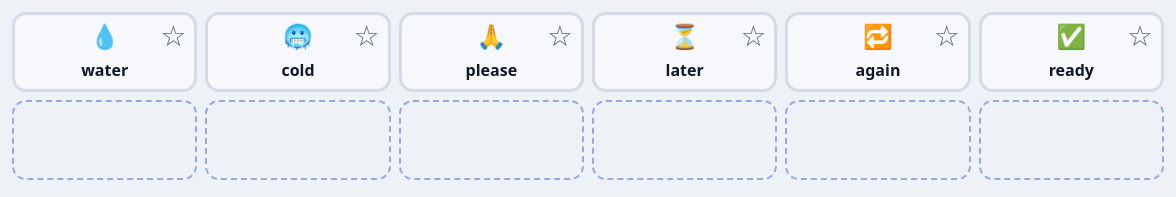
Test: AI context board row › uses full board cards without generation labels and lets every choice be starred
Check: the number of elements with class "context-cellwrap" is 6, box [12,12,197,92]; [205,12,391,92]; [399,12,584,92]; [592,12,777,92]; [785,12,971,92]; [979,12,1164,92]
Click the button named "Keep \\": (173, 36) [151,14,195,58]
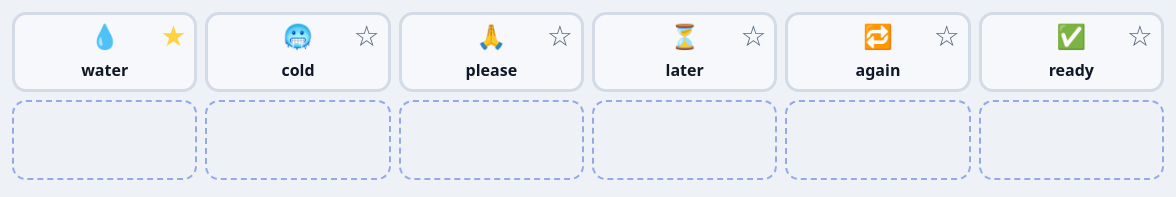
Check: the button named "Keep \\" reads "★", box [151,14,195,58]
